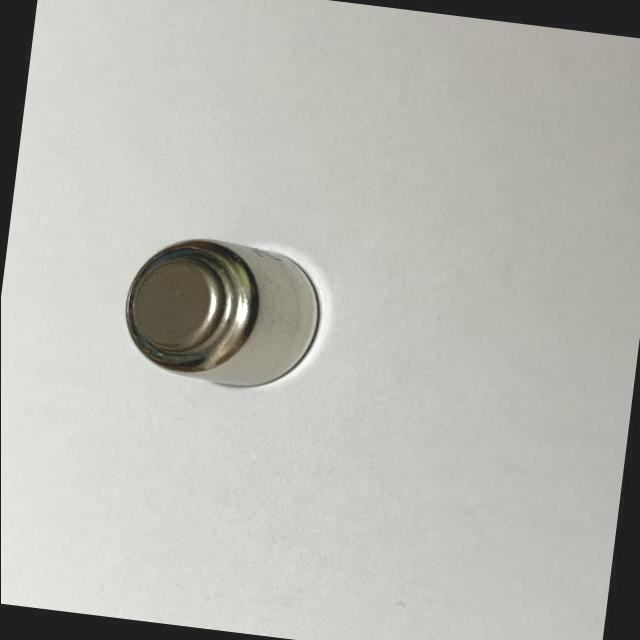COIN: (117, 228, 333, 396)
